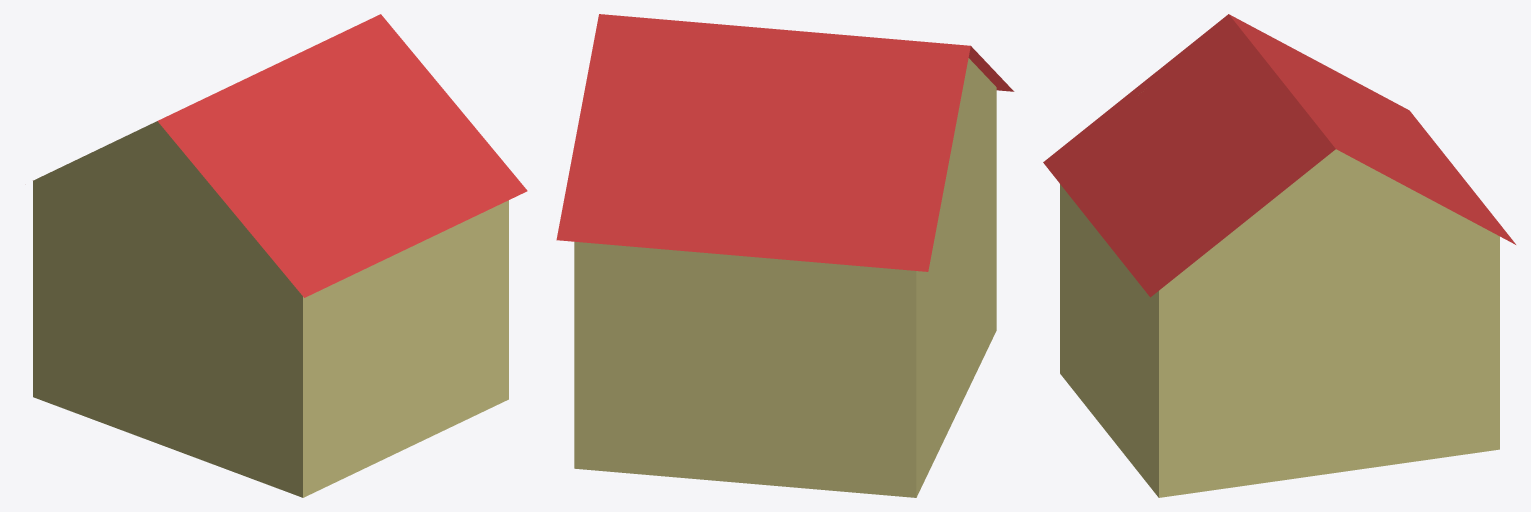
The picture shows the model from 3 angles, left to right: view 1: azimuth 30°, elevation 25°; view 2: azimuth 150°, elevation 25°; view 3: azimuth 270°, elevation 25°; orthographic projection. The views are drawn at different scales.
Bounding box in the file's own units: 16.46 × 17.62 × 13.52.
